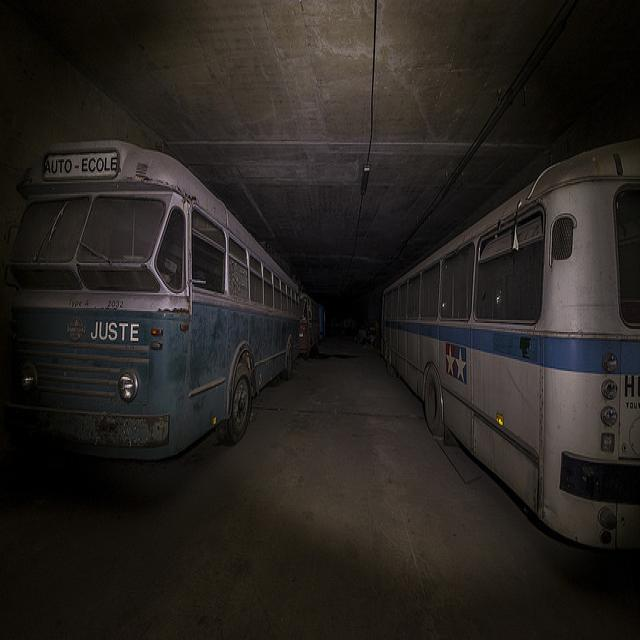Bus: (365, 150, 640, 571), (0, 137, 308, 470), (293, 282, 330, 361)
